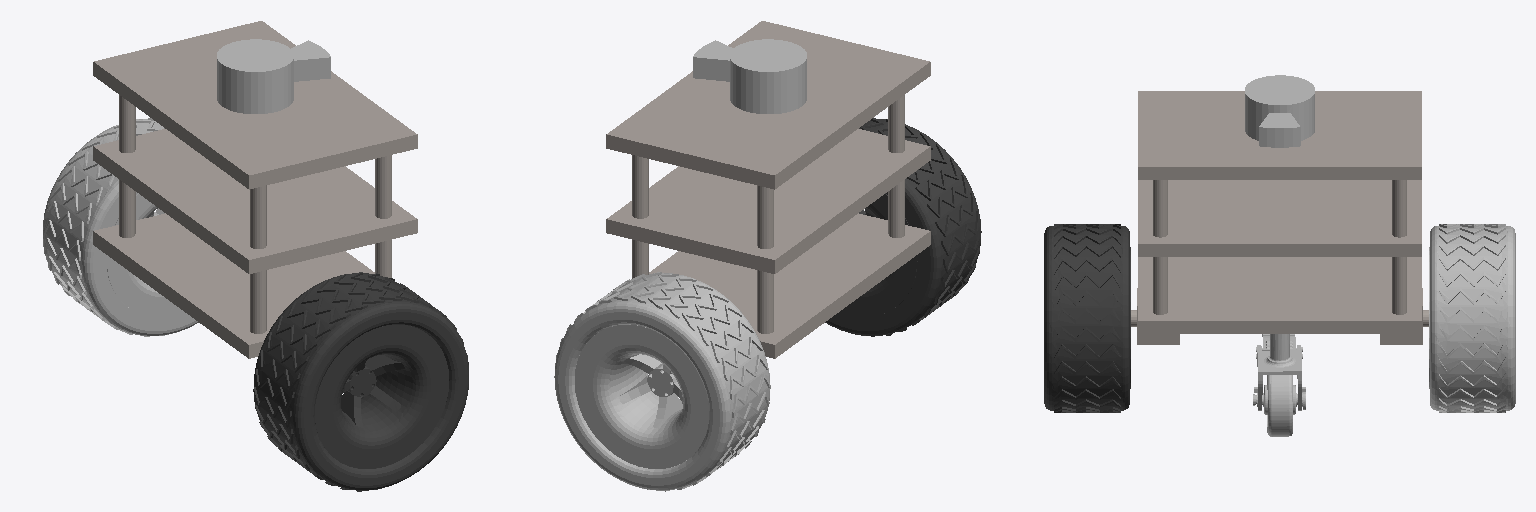
The robot description file, URDF, robot "two_wheeler_cw":
<?xml version="1.0" encoding="utf-8"?>
<!-- This URDF was automatically created by SolidWorks to URDF Exporter! Originally created by [author] ([email redacted]) 
     Commit Version: 1.6.0-1-g15f4949  Build Version: 1.6.7594.29634
     For more information, please see http://wiki.ros.org/sw_urdf_exporter -->
<robot
  name="two_wheeler_cw">
  <link
    name="base_link">
    <inertial>
      <origin
        xyz="-1.03425123313544E-05 5.55111512312578E-17 -0.0219483953770849"
        rpy="0 0 0" />
      <mass
        value="28.8445527135492" />
      <inertia
        ixx="0.352327843609902"
        ixy="-1.81000524294579E-17"
        ixz="-1.22961773751265E-05"
        iyy="0.13879885099041"
        iyz="2.17540661137852E-19"
        izz="0.487430070205289" />
    </inertial>
    <visual>
      <origin
        xyz="0 0 0"
        rpy="0 0 0" />
      <geometry>
        <mesh
          filename="package://two_wheeler_cw/meshes/base_link.STL" />
      </geometry>
      <material
        name="">
        <color
          rgba="0.686274509803922 0.658823529411765 0.63921568627451 1" />
      </material>
    </visual>
    <collision>
      <origin
        xyz="0 0 0"
        rpy="0 0 0" />
      <geometry>
        <mesh
          filename="package://two_wheeler_cw/meshes/base_link.STL" />
      </geometry>
    </collision>
  </link>
  <link
    name="lw_Link">
    <inertial>
      <origin
        xyz="2.04668581421652E-06 -1.84506230882509E-06 -0.0071868985100385"
        rpy="0 0 0" />
      <mass
        value="4.80902409599974" />
      <inertia
        ixx="0.0226570930341168"
        ixy="3.44900007119707E-09"
        ixz="7.63339744670861E-08"
        iyy="0.0226570949326721"
        iyz="-6.89859987161951E-08"
        izz="0.0333153287221623" />
    </inertial>
    <visual>
      <origin
        xyz="0 0 0"
        rpy="0 0 0" />
      <geometry>
        <mesh
          filename="package://two_wheeler_cw/meshes/lw_Link.STL" />
      </geometry>
      <material
        name="">
        <color
          rgba="0.298039215686275 0.298039215686275 0.298039215686275 1" />
      </material>
    </visual>
    <collision>
      <origin
        xyz="0 0 0"
        rpy="0 0 0" />
      <geometry>
        <mesh
          filename="package://two_wheeler_cw/meshes/lw_Link.STL" />
      </geometry>
    </collision>
  </link>
  <joint
    name="lw_joint"
    type="continuous">
    <origin
      xyz="0.00080677 -0.27524 -0.173"
      rpy="1.5708 0 0" />
    <parent
      link="base_link" />
    <child
      link="lw_Link" />
    <axis
      xyz="0 0 1" />
  </joint>
  <link
    name="rw_Link">
    <inertial>
      <origin
        xyz="-2.73571970213493E-06 -3.30174903223623E-07 0.00718689851003917"
        rpy="0 0 0" />
      <mass
        value="4.80902409599974" />
      <inertia
        ixx="0.0226570904162419"
        ixy="-2.68611671500061E-10"
        ixz="1.02131389279281E-07"
        iyy="0.0226570975505469"
        iyz="1.24548385900428E-08"
        izz="0.0333153287221623" />
    </inertial>
    <visual>
      <origin
        xyz="0 0 0"
        rpy="0 0 0" />
      <geometry>
        <mesh
          filename="package://two_wheeler_cw/meshes/rw_Link.STL" />
      </geometry>
      <material
        name="">
        <color
          rgba="0.752941176470588 0.752941176470588 0.752941176470588 1" />
      </material>
    </visual>
    <collision>
      <origin
        xyz="0 0 0"
        rpy="0 0 0" />
      <geometry>
        <mesh
          filename="package://two_wheeler_cw/meshes/rw_Link.STL" />
      </geometry>
    </collision>
  </link>
  <joint
    name="rw_joint"
    type="continuous">
    <origin
      xyz="0.00080677 0.27524 -0.173"
      rpy="1.5708 0 0" />
    <parent
      link="base_link" />
    <child
      link="rw_Link" />
    <axis
      xyz="0 0 1" />
  </joint>
  <link
    name="cws_Link">
    <inertial>
      <origin
        xyz="-0.00395773179178071 -0.00014669234133402 -0.0410941975545863"
        rpy="0 0 0" />
      <mass
        value="0.362925305139418" />
      <inertia
        ixx="0.000346191813714069"
        ixy="-2.0718095028865E-06"
        ixz="-4.14688193121602E-06"
        iyy="0.000480185374461931"
        iyz="-2.93260857993653E-08"
        izz="0.000297583491413063" />
    </inertial>
    <visual>
      <origin
        xyz="0 0 0"
        rpy="0 0 0" />
      <geometry>
        <mesh
          filename="package://two_wheeler_cw/meshes/cws_Link.STL" />
      </geometry>
      <material
        name="">
        <color
          rgba="0.752941176470588 0.752941176470588 0.752941176470588 1" />
      </material>
    </visual>
    <collision>
      <origin
        xyz="0 0 0"
        rpy="0 0 0" />
      <geometry>
        <mesh
          filename="package://two_wheeler_cw/meshes/cws_Link.STL" />
      </geometry>
    </collision>
  </link>
  <joint
    name="cws_joint"
    type="continuous">
    <origin
      xyz="0.10215 0 -0.192"
      rpy="0 0 0" />
    <parent
      link="base_link" />
    <child
      link="cws_Link" />
    <axis
      xyz="0 0 1" />
  </joint>
  <link
    name="lidar_Link">
    <inertial>
      <origin
        xyz="0.00959940873025059 -3.20005491557529E-05 0.0303223779571178"
        rpy="0 0 0" />
      <mass
        value="1.45459502470387" />
      <inertia
        ixx="0.00122521573077011"
        ixy="3.12653811116822E-06"
        ixz="-3.14260125299315E-05"
        iyy="0.00216309287669964"
        iyz="1.04761625116669E-07"
        izz="0.00259545332645246" />
    </inertial>
    <visual>
      <origin
        xyz="0 0 0"
        rpy="0 0 0" />
      <geometry>
        <mesh
          filename="package://two_wheeler_cw/meshes/lidar_Link.STL" />
      </geometry>
      <material
        name="">
        <color
          rgba="0.752941176470588 0.752941176470588 0.752941176470588 1" />
      </material>
    </visual>
    <collision>
      <origin
        xyz="0 0 0"
        rpy="0 0 0" />
      <geometry>
        <mesh
          filename="package://two_wheeler_cw/meshes/lidar_Link.STL" />
      </geometry>
    </collision>
  </link>
  <joint
    name="lidar_joint"
    type="continuous">
    <origin
      xyz="0 0 0.12"
      rpy="0 0 0" />
    <parent
      link="base_link" />
    <child
      link="lidar_Link" />
    <axis
      xyz="0 0 -1" />
  </joint>
</robot>

--- Facts derived from the render (not from the file) ---
Views: 3 orthographic renders of the robot side by side, from view 1: azimuth 30°, elevation 25°; view 2: azimuth 150°, elevation 25°; view 3: azimuth 270°, elevation 25°.
Model two_wheeler_cw with 5 links and 4 joints (4 continuous), rooted at base_link, posed all joints at 0.
Visible links, largest first — view 1: base_link, lw_Link, rw_Link, lidar_Link; view 2: base_link, rw_Link, lw_Link, lidar_Link; view 3: base_link, rw_Link, lw_Link, lidar_Link, cws_Link.
Link boxes in pixels (x1=…): base_link: x1=93, y1=21, x2=417, y2=358; lw_Link: x1=253, y1=272, x2=468, y2=491; rw_Link: x1=43, y1=118, x2=198, y2=336; lidar_Link: x1=217, y1=39, x2=330, y2=113; base_link: x1=606, y1=21, x2=930, y2=358; rw_Link: x1=554, y1=272, x2=770, y2=491; lw_Link: x1=825, y1=118, x2=981, y2=336; lidar_Link: x1=693, y1=39, x2=806, y2=113; base_link: x1=1131, y1=91, x2=1428, y2=344; rw_Link: x1=1429, y1=224, x2=1515, y2=412; lw_Link: x1=1044, y1=224, x2=1130, y2=412; lidar_Link: x1=1245, y1=75, x2=1314, y2=147; cws_Link: x1=1253, y1=334, x2=1305, y2=436.
Size in the robot's own frame: 0.2865 by 0.6619 by 0.486 metres.
Meshes: 5 distinct files referenced, 5 mesh visuals loaded (5 binary STL).